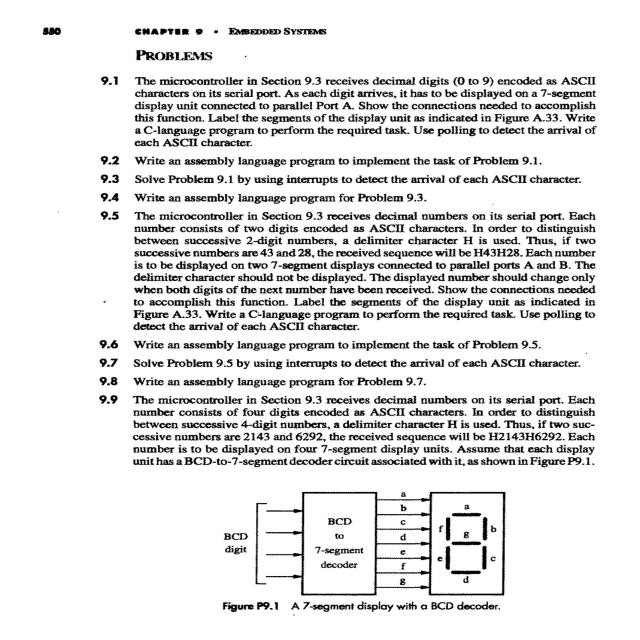diagram: (138, 484, 599, 636)
